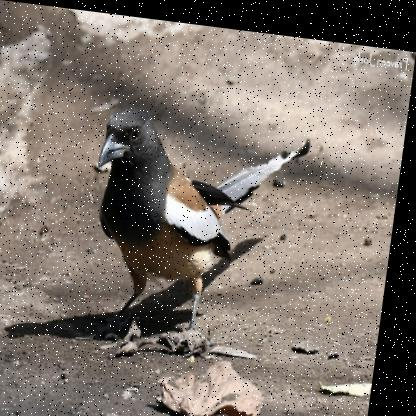Burung: (85, 100, 317, 350)
